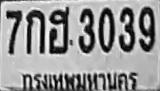0: (98, 7, 114, 52)
3: (78, 7, 94, 52), (118, 6, 134, 51)
7: (5, 9, 21, 54)
9: (138, 6, 154, 51)
A01: (25, 9, 44, 53)
A44: (48, 6, 70, 53)
BKK: (19, 71, 139, 91)
